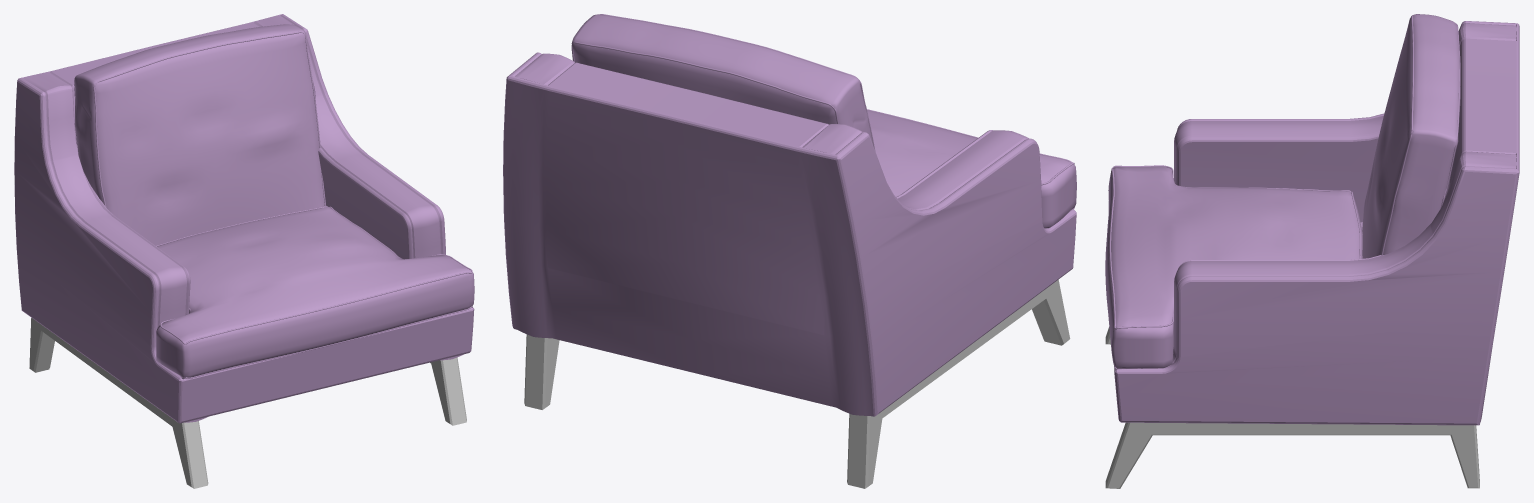
3 renders of one model, left to right at view 1: azimuth 30°, elevation 25°; view 2: azimuth 150°, elevation 25°; view 3: azimuth 270°, elevation 25°, orthographic. The views are drawn at different scales.
Parts seen in each view (by area): view 1: buffer-0-mesh-0_1_1, buffer-0-mesh-0_0; view 2: buffer-0-mesh-0_1_1, buffer-0-mesh-0_0; view 3: buffer-0-mesh-0_1_1, buffer-0-mesh-0_0.
Boxes of the visible parts, x1,y1,x2,y2 form: buffer-0-mesh-0_1_1: (14,14,474,423); buffer-0-mesh-0_0: (29,318,466,488); buffer-0-mesh-0_1_1: (503,14,1076,416); buffer-0-mesh-0_0: (524,279,1070,488); buffer-0-mesh-0_1_1: (1105,14,1519,425); buffer-0-mesh-0_0: (1105,327,1479,488).
Bounding box in the file's own units: 0.8178 × 0.8074 × 0.8617.
